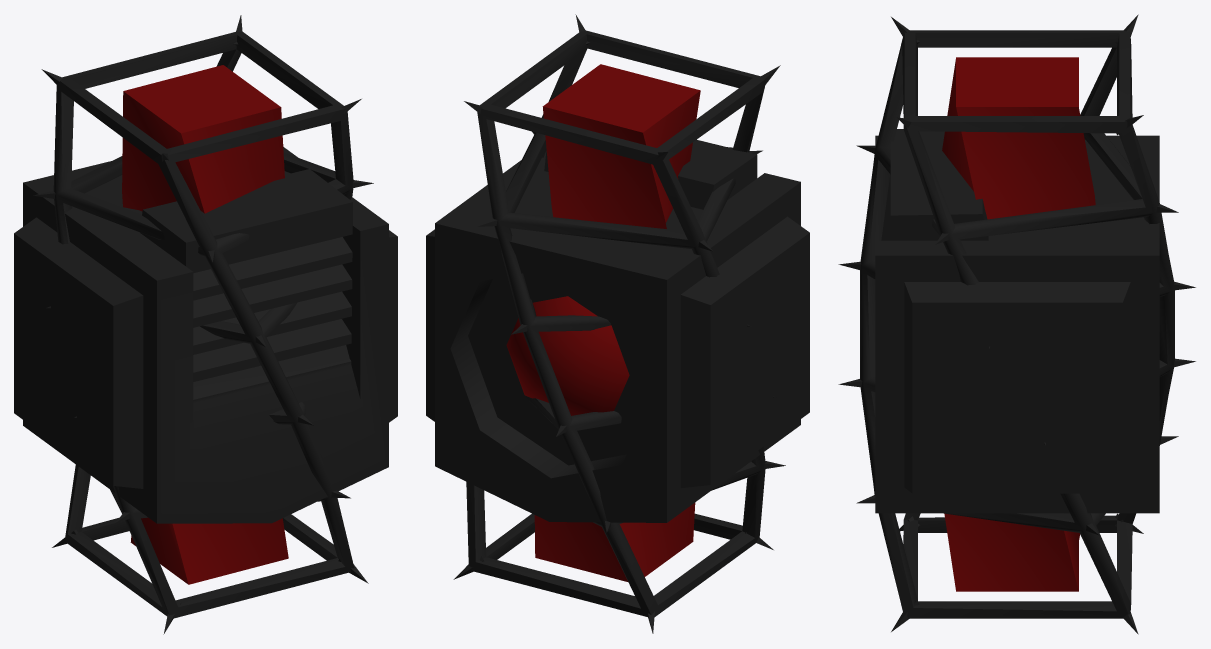
The model's file is creature-01.fbx.
3 views of the same model, side by side, from view 1: azimuth 30°, elevation 25°; view 2: azimuth 150°, elevation 25°; view 3: azimuth 270°, elevation 25° (orthographic). The views are drawn at different scales.
Parts seen in each view (by area): view 1: body, leg; view 2: body, leg; view 3: body, leg.
Part boxes in pixels (left/top/right/bottom): body: left=14, top=147, right=397, bottom=523; leg: left=33, top=15, right=373, bottom=634; body: left=426, top=139, right=809, bottom=522; leg: left=453, top=14, right=785, bottom=633; body: left=875, top=129, right=1159, bottom=513; leg: left=838, top=14, right=1195, bottom=634.
Size of the model in its own units: 6.79 by 10.77 by 6.76.
